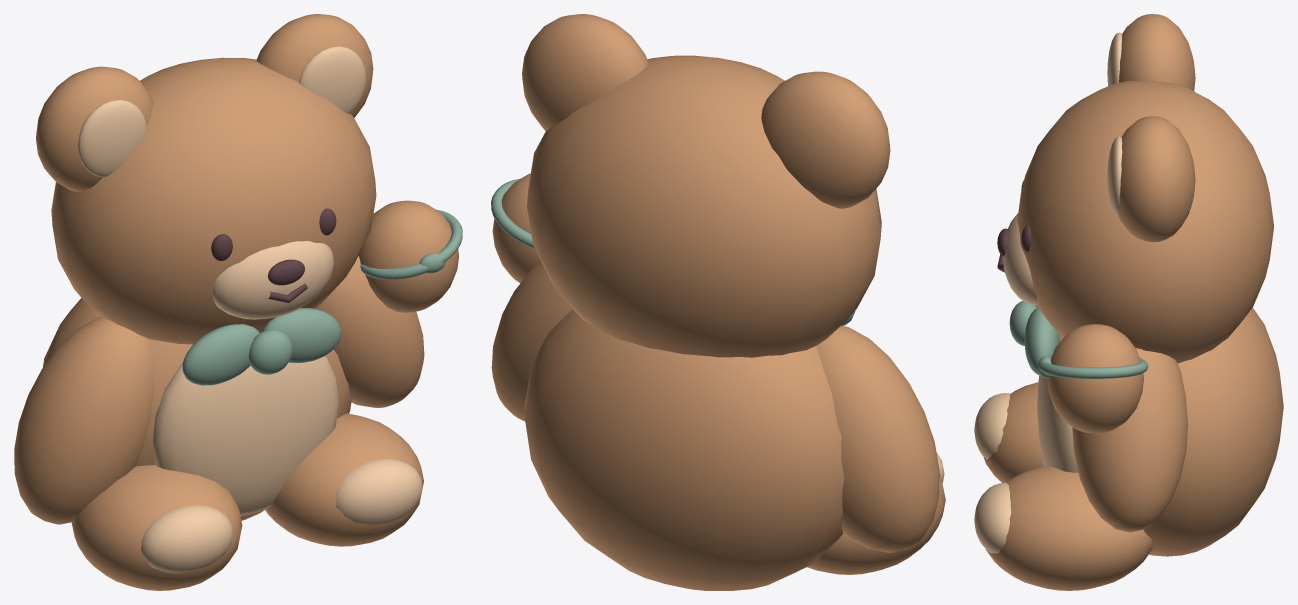
Rendered from teddy.glb.
The picture shows the model from 3 angles, left to right: view 1: azimuth 30°, elevation 25°; view 2: azimuth 150°, elevation 25°; view 3: azimuth 270°, elevation 25°; orthographic projection. The views are drawn at different scales.
Parts seen in each view (by area): view 1: Plush bear • large head, Plush bear • resting arm, Plush bear • belly panel, Plush bear • foot, Plush bear • foot.001, Plush bear • raised holding arm, Plush bear • holding paw, Plush bear • round ear, Plush bear • soft muzzle, Plush bear • oval foot pad, Plush bear • round ear.001, Plush bear • oval foot pad.001 (+8 smaller); view 2: Plush bear • large head, Plush bear • seated rounded body, Plush bear • resting arm, Plush bear • round ear, Plush bear • round ear.001, Plush bear • raised holding arm, Plush bear • foot, Plush bear • holding paw, Bear • ribbon tied on paw; view 3: Plush bear • large head, Plush bear • seated rounded body, Plush bear • foot.001, Plush bear • raised holding arm, Plush bear • round ear.001, Plush bear • holding paw, Plush bear • round ear, Plush bear • foot, Plush bear • belly panel, Plush bear • oval foot pad.001, Plush bear • oval foot pad, Plush bear • soft muzzle (+5 smaller).
Part boxes in pixels (x1=…): Plush bear • large head: x1=51, y1=57, x2=376, y2=344; Plush bear • resting arm: x1=14, y1=317, x2=153, y2=524; Plush bear • belly panel: x1=152, y1=355, x2=338, y2=516; Plush bear • foot: x1=71, y1=465, x2=242, y2=590; Plush bear • foot.001: x1=265, y1=413, x2=423, y2=546; Plush bear • raised holding arm: x1=315, y1=256, x2=424, y2=408; Plush bear • holding paw: x1=358, y1=200, x2=458, y2=312; Plush bear • round ear: x1=36, y1=66, x2=153, y2=191; Plush bear • soft muzzle: x1=212, y1=241, x2=334, y2=319; Plush bear • oval foot pad: x1=141, y1=505, x2=233, y2=573; Plush bear • round ear.001: x1=256, y1=14, x2=373, y2=117; Plush bear • oval foot pad.001: x1=335, y1=458, x2=422, y2=524; Plush bear • large head: x1=527, y1=55, x2=881, y2=357; Plush bear • seated rounded body: x1=524, y1=309, x2=844, y2=590; Plush bear • resting arm: x1=816, y1=325, x2=939, y2=552; Plush bear • round ear: x1=761, y1=71, x2=890, y2=208; Plush bear • round ear.001: x1=522, y1=14, x2=648, y2=130; Plush bear • raised holding arm: x1=491, y1=261, x2=572, y2=421; Plush bear • foot: x1=807, y1=473, x2=945, y2=574; Plush bear • holding paw: x1=492, y1=173, x2=540, y2=283; Bear • ribbon tied on paw: x1=491, y1=178, x2=534, y2=248; Plush bear • large head: x1=1017, y1=81, x2=1273, y2=363; Plush bear • seated rounded body: x1=1077, y1=307, x2=1283, y2=556; Plush bear • foot.001: x1=985, y1=465, x2=1153, y2=590; Plush bear • raised holding arm: x1=1072, y1=348, x2=1187, y2=532; Plush bear • round ear.001: x1=1118, y1=116, x2=1195, y2=242; Plush bear • holding paw: x1=1047, y1=324, x2=1143, y2=433; Plush bear • round ear: x1=1119, y1=14, x2=1195, y2=91; Plush bear • foot: x1=983, y1=382, x2=1044, y2=482; Plush bear • belly panel: x1=1037, y1=334, x2=1077, y2=472; Plush bear • oval foot pad.001: x1=974, y1=482, x2=1011, y2=553; Plush bear • oval foot pad: x1=974, y1=393, x2=1010, y2=459; Plush bear • soft muzzle: x1=1002, y1=213, x2=1037, y2=304.
Size of the model in its own units: 1.07 by 1.18 by 0.709.
